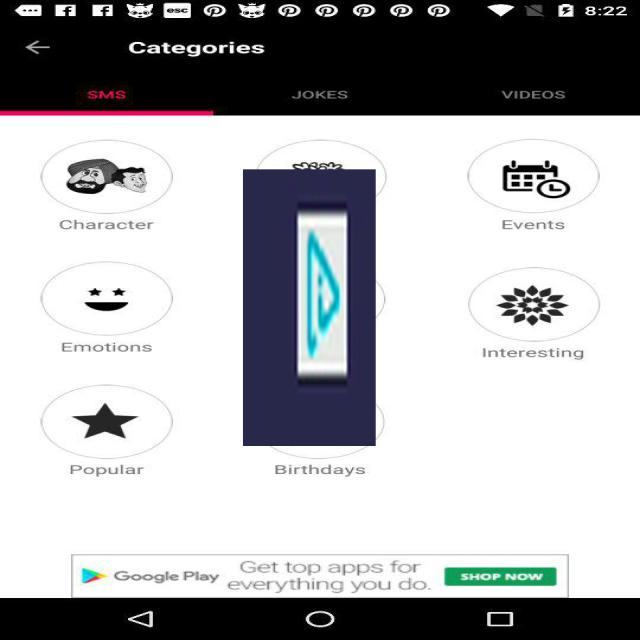sneaking: (243, 169, 376, 446)
